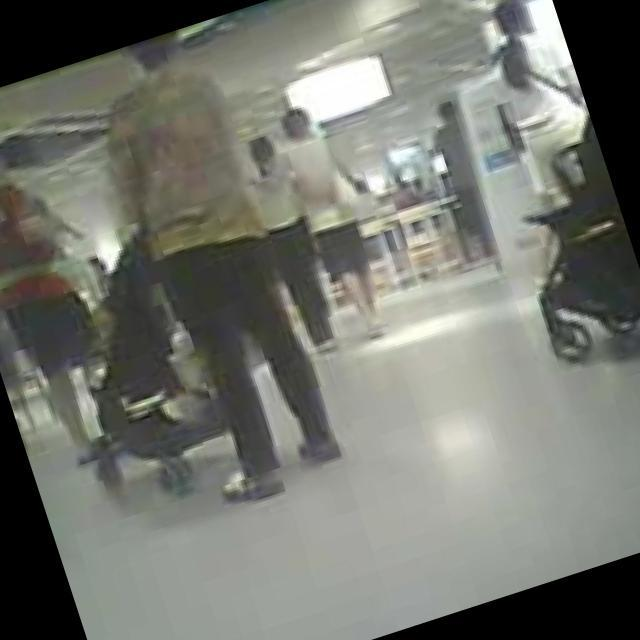person: (73, 20, 351, 505), (0, 112, 154, 481), (261, 93, 409, 352), (452, 0, 614, 220), (230, 126, 352, 360), (419, 90, 514, 270)
